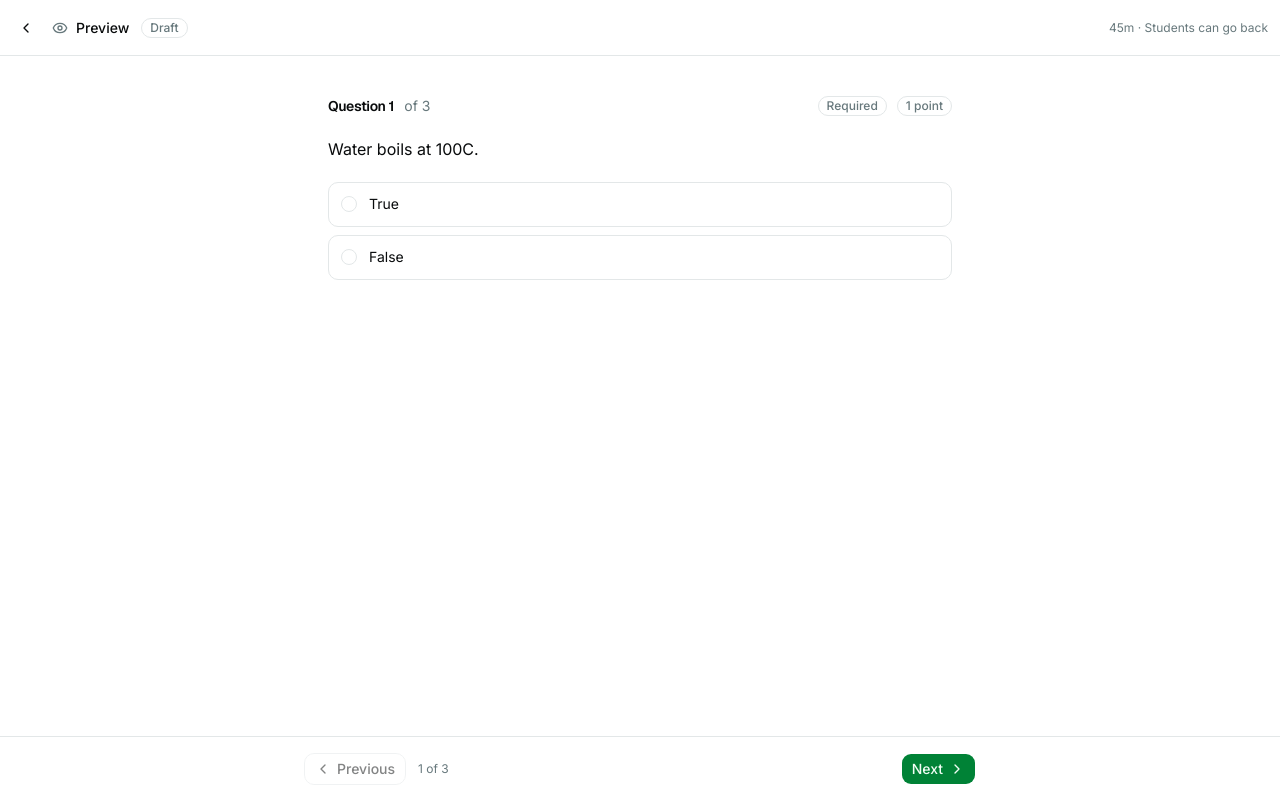
Scenario: one question per page › walks forward and back
Click the button "Next" at (938, 768), box [901, 752, 976, 784]
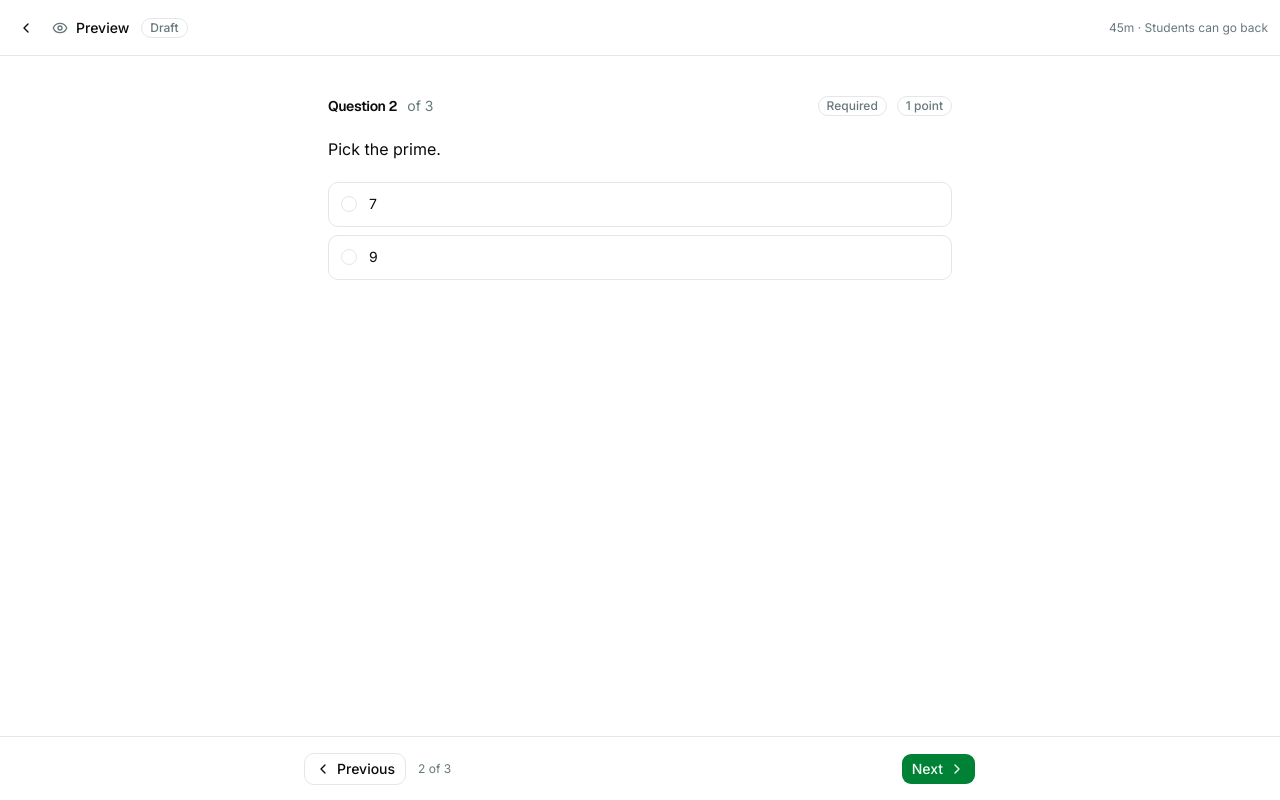
Expected: the text "Pick the prime." is shown, [328, 139, 441, 159]
Click the button "Previous" at (355, 768), box [304, 752, 406, 784]
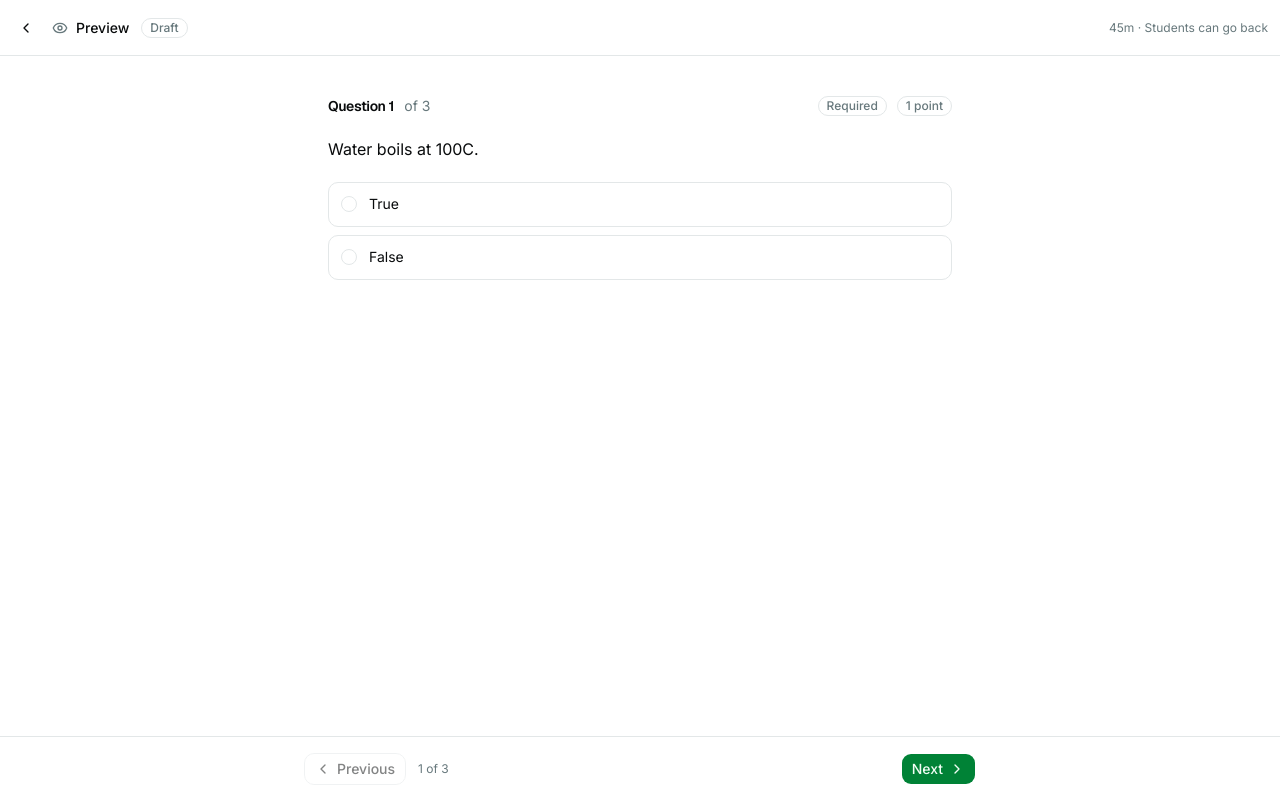
Expected: the text "Water boils at 100C." is shown, [328, 139, 479, 159]
